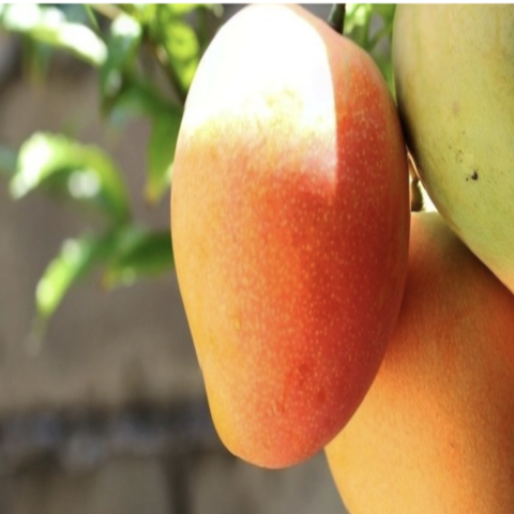mango: (149, 1, 444, 514)
